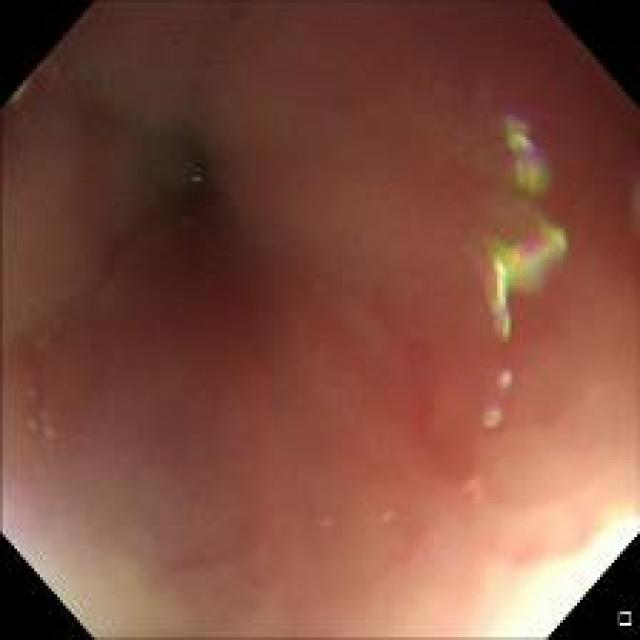blur: (2, 4, 636, 636)
color misalignment: (472, 110, 568, 346), (479, 368, 519, 431)
saturation: (475, 509, 636, 635)
